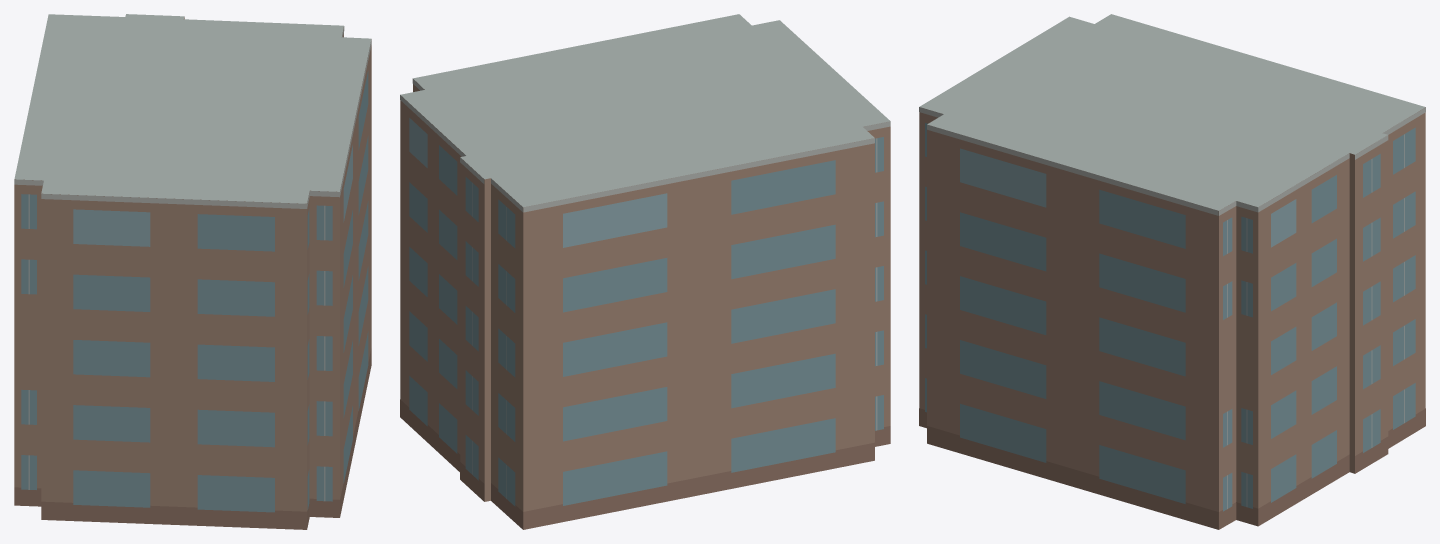
File: survey-upis-32787539.glb
The picture shows the model from 3 angles, left to right: view 1: azimuth 30°, elevation 25°; view 2: azimuth 150°, elevation 25°; view 3: azimuth 270°, elevation 25°; orthographic projection. The views are drawn at different scales.
Visible parts, largest first — view 1: survey-upis-32787539.tmp; view 2: survey-upis-32787539.tmp; view 3: survey-upis-32787539.tmp.
Part boxes in pixels (x1=…): survey-upis-32787539.tmp: x1=14, y1=14, x2=371, y2=529; survey-upis-32787539.tmp: x1=400, y1=14, x2=890, y2=529; survey-upis-32787539.tmp: x1=919, y1=14, x2=1425, y2=529.
Size of the model in its own units: 19.85 by 15 by 21.59.
